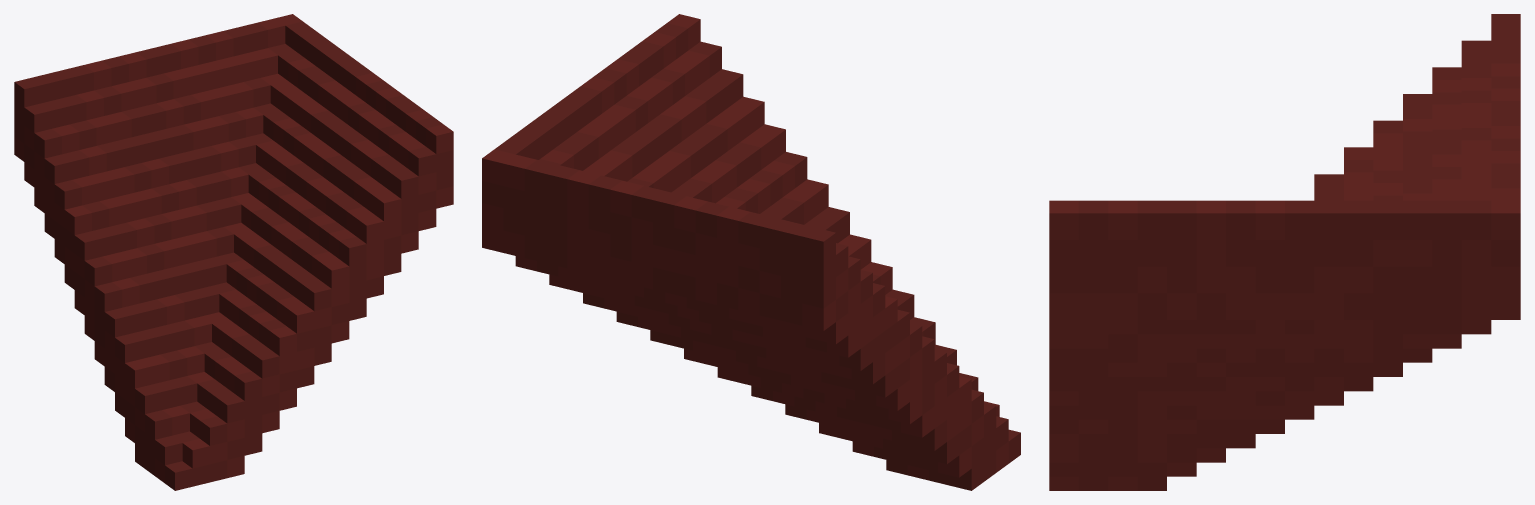
Rendered from tavern-26-roof_redcornerinvs.obj.
The picture shows the model from 3 angles, left to right: view 1: azimuth 30°, elevation 25°; view 2: azimuth 150°, elevation 25°; view 3: azimuth 270°, elevation 25°; orthographic projection. The views are drawn at different scales.
Parts seen in each view (by area): view 1: roof_redcornerinvs; view 2: roof_redcornerinvs; view 3: roof_redcornerinvs.
Boxes of the visible parts, bbox=[...] form: roof_redcornerinvs: bbox=[14, 14, 453, 490]; roof_redcornerinvs: bbox=[482, 14, 1020, 490]; roof_redcornerinvs: bbox=[1049, 14, 1520, 490].
Bounding box in the file's own units: 1.6 × 1.6 × 1.6.
1 material, 1 textured.
